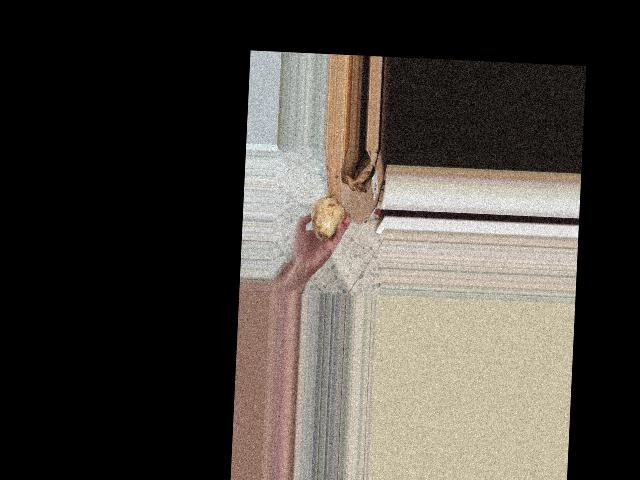onion: (306, 194, 348, 245)
